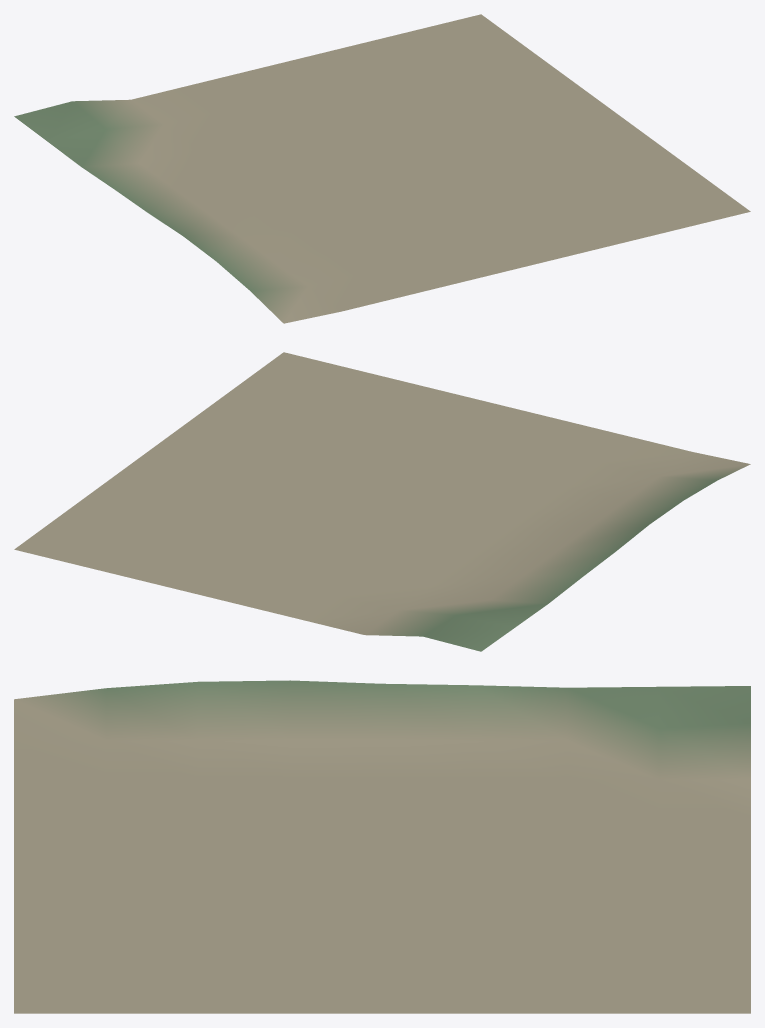
3 renders of one model, top to bottom at view 1: azimuth 30°, elevation 25°; view 2: azimuth 150°, elevation 25°; view 3: azimuth 270°, elevation 25°, orthographic. The views are drawn at different scales.
Parts seen in each view (by area): view 1: Lo; view 2: Lo; view 3: Lo.
Part boxes in pixels (box(x1,y1,x2,y2)): Lo: box(14, 14, 750, 323); Lo: box(14, 352, 750, 651); Lo: box(14, 680, 750, 1013).
Size of the model in its own units: 256 by 8.26 by 256.
